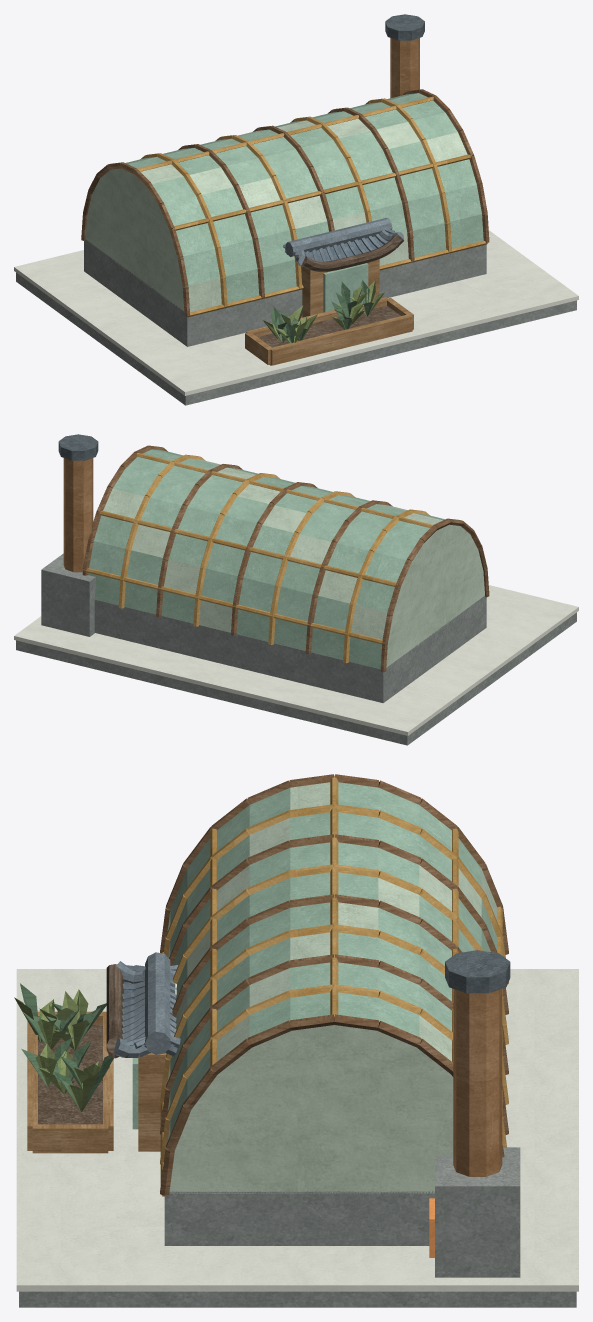
The model's file is BLD_GREENHOUSE.glb.
3 views of the same model, one above another, from view 1: azimuth 30°, elevation 25°; view 2: azimuth 150°, elevation 25°; view 3: azimuth 270°, elevation 25° (orthographic). The views are drawn at different scales.
Parts seen in each view (by area): view 1: BLD_GREENHOUSE; view 2: BLD_GREENHOUSE; view 3: BLD_GREENHOUSE.
Boxes of the visible parts, x1,y1,x2,y2 form: BLD_GREENHOUSE: (14,14,578,405); BLD_GREENHOUSE: (14,434,578,745); BLD_GREENHOUSE: (14,774,578,1307).
Size of the model in its own units: 6.32 by 2.96 by 4.77.
16 materials, 16 textured.
